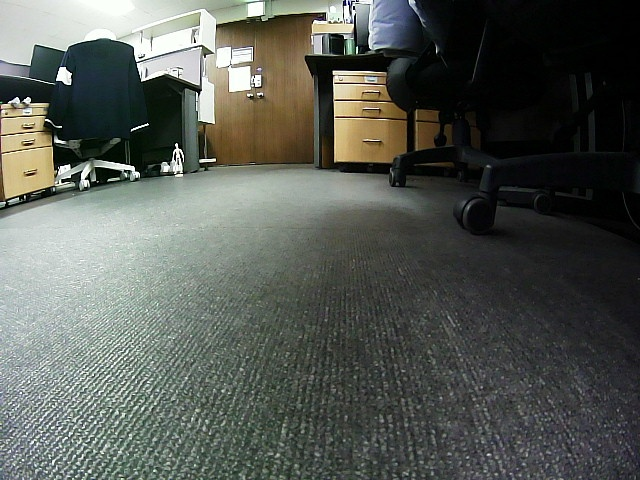person: (172, 142, 184, 175)
